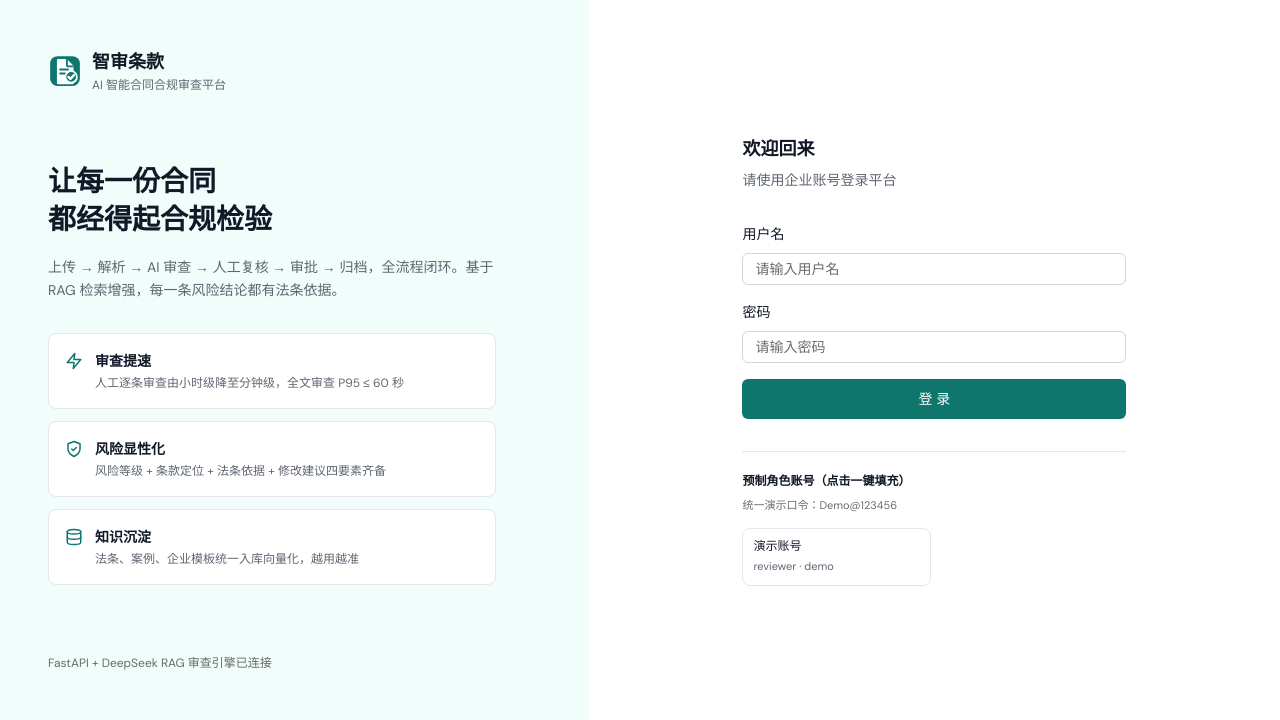
Test: LoginView 预设账号与初始态 › 开关开启时展示预设账号并可一键填充
This screenshot has width=1280, height=720.
Click the button "演示账号 reviewer · demo". click: coordinates (837, 556)
box: [742, 528, 931, 586]
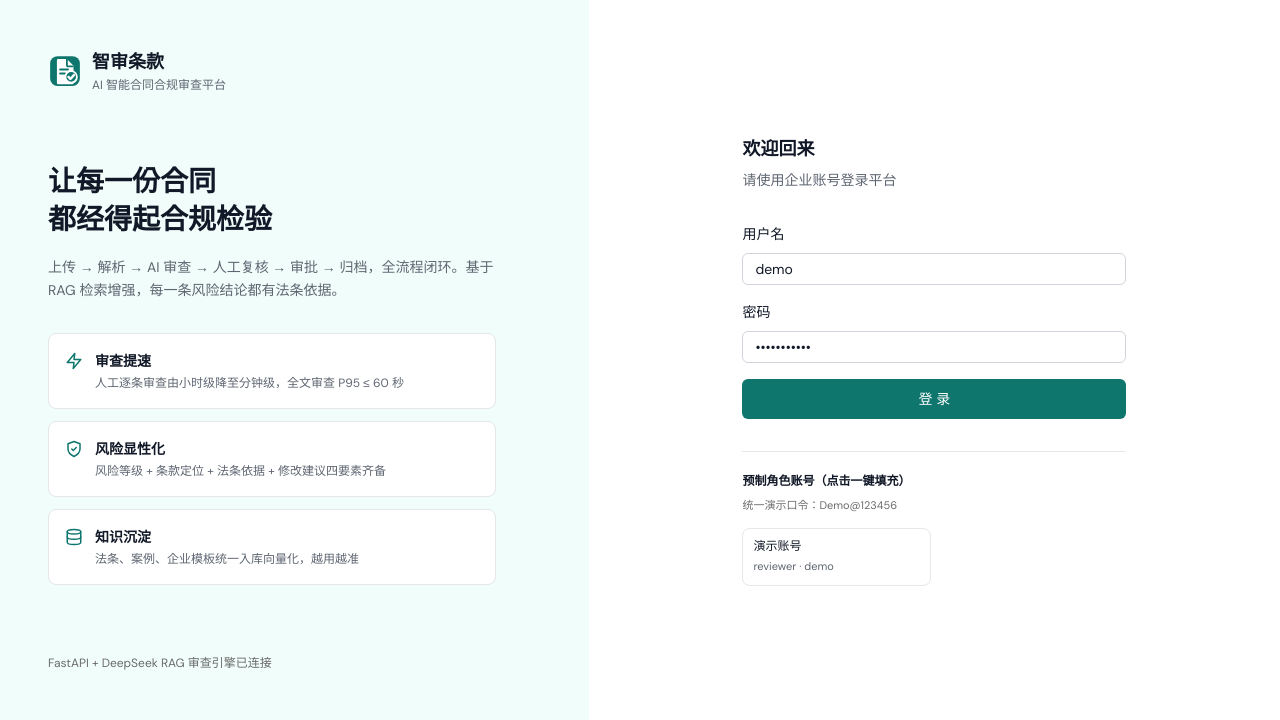
Check: the field with id "username" holds "demo", box [742, 252, 1126, 284]
Check: the password field labelled "密码" holds "Demo@123456", box [742, 330, 1126, 362]
